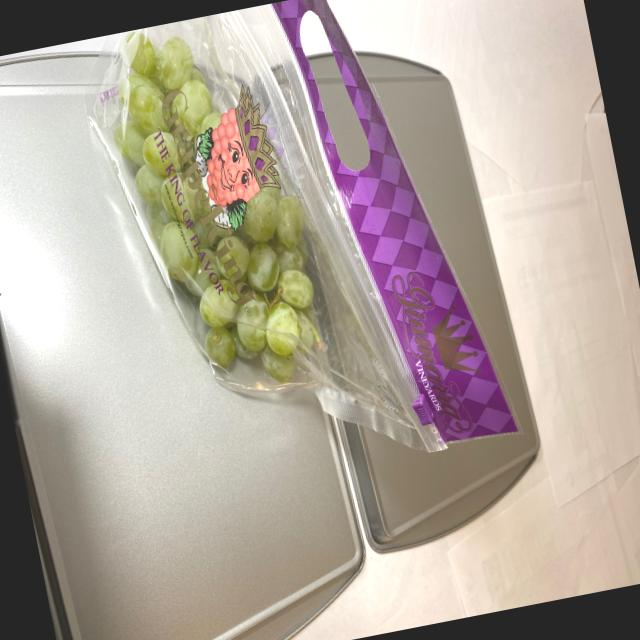grapes: (96, 4, 343, 424)
